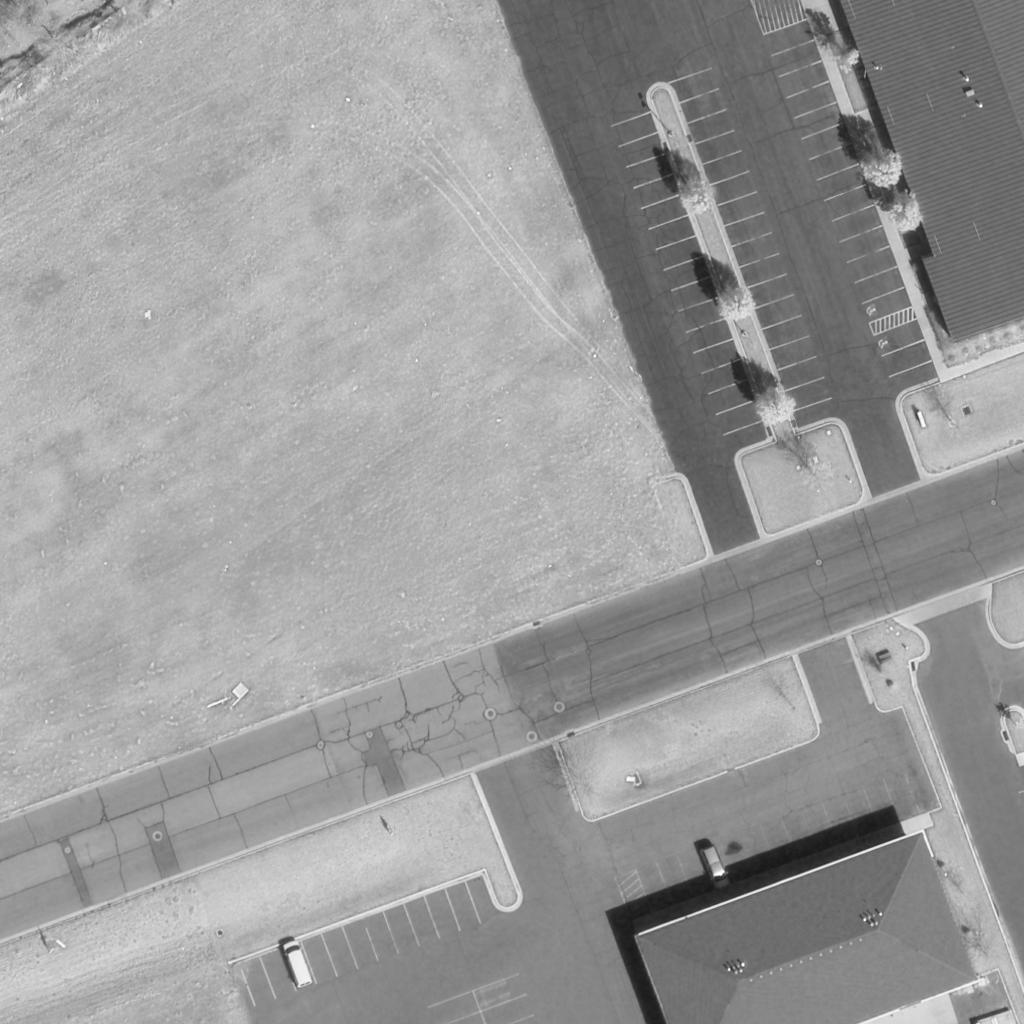vehicle: (698, 846, 734, 892), (281, 940, 313, 990)
